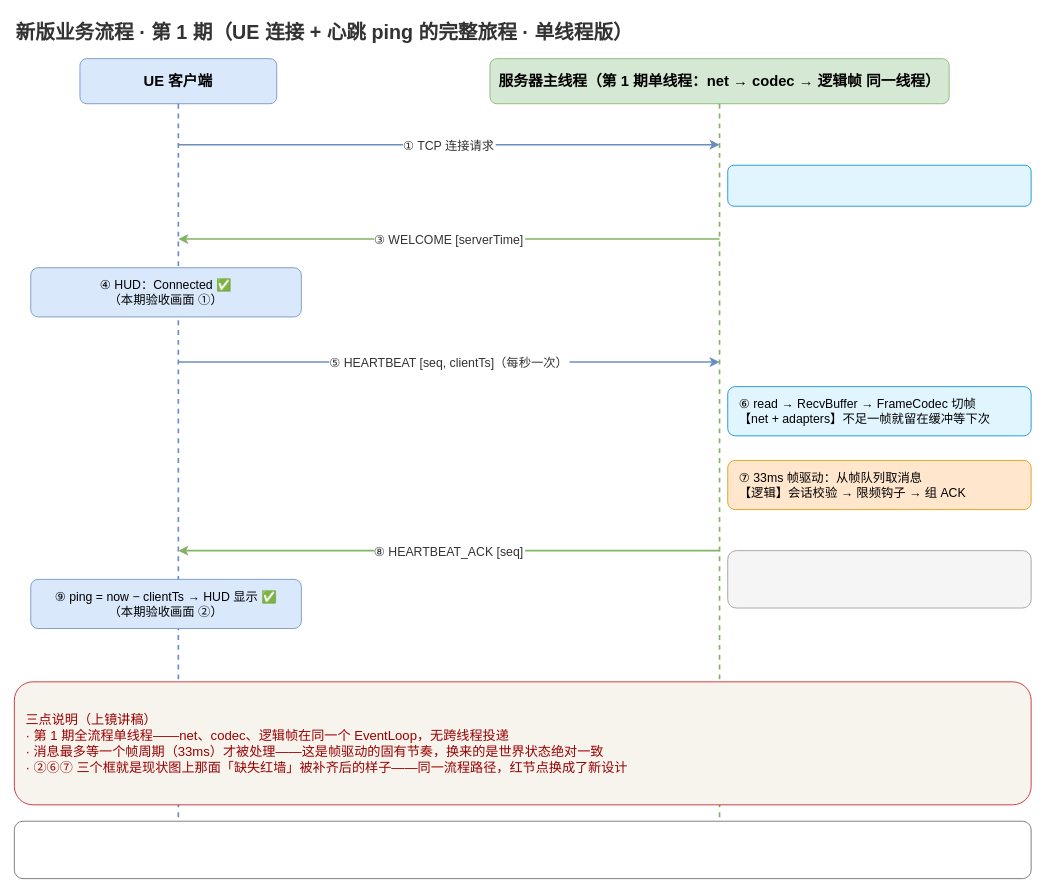
This 1046x893 diagram has some shape labels left out. The centre of each missing label's shape, as x and y in pixels:
"② Acceptor：accept → 新建 ClientConnection（生命周期托管）" goes at point 879,185.
"断开感知：read 返回 0 / EPOLLERR → ClientConnection 清理 → 上层收到断开事件（第 2 期接会话注销）" goes at point 879,579.
"色标：绿箭头=服务器→UE 蓝箭头=UE→服务器 蓝框=net/adapters 橙框=逻辑帧 蓝框(UE侧)=验收画面" goes at point 522,849.
